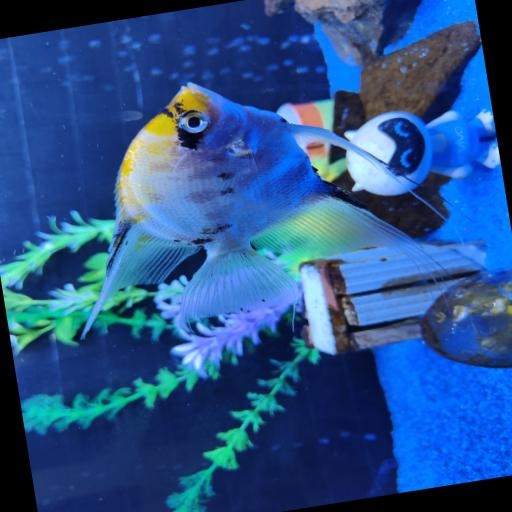Fish: (83, 83, 435, 336)
